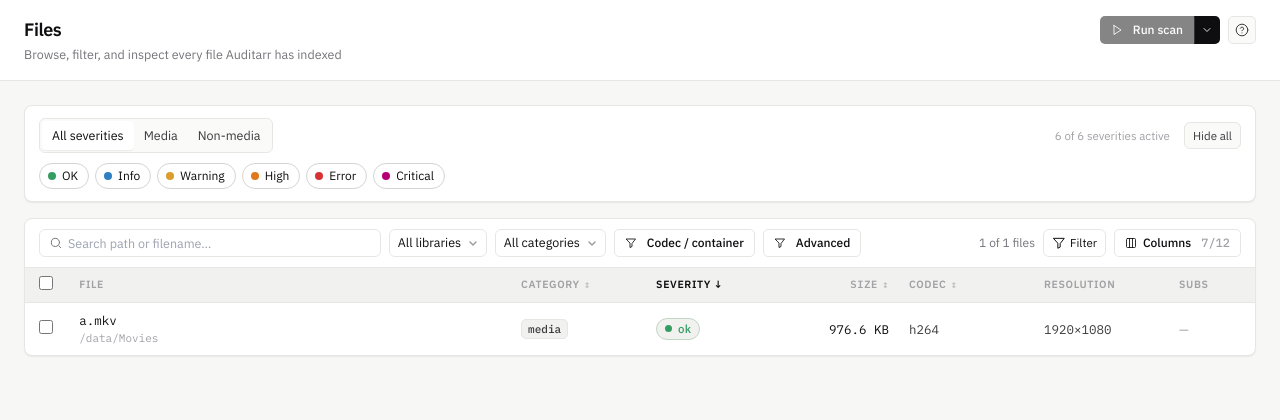
Test case: OptimizeProfilePicker Stage 28 › popover dismisses on Escape
Expected: the text "a.mkv" is shown, [79,311,117,330]
Click the checkbox named "Select a.mkv" at (46, 326), box [39,320,53,334]
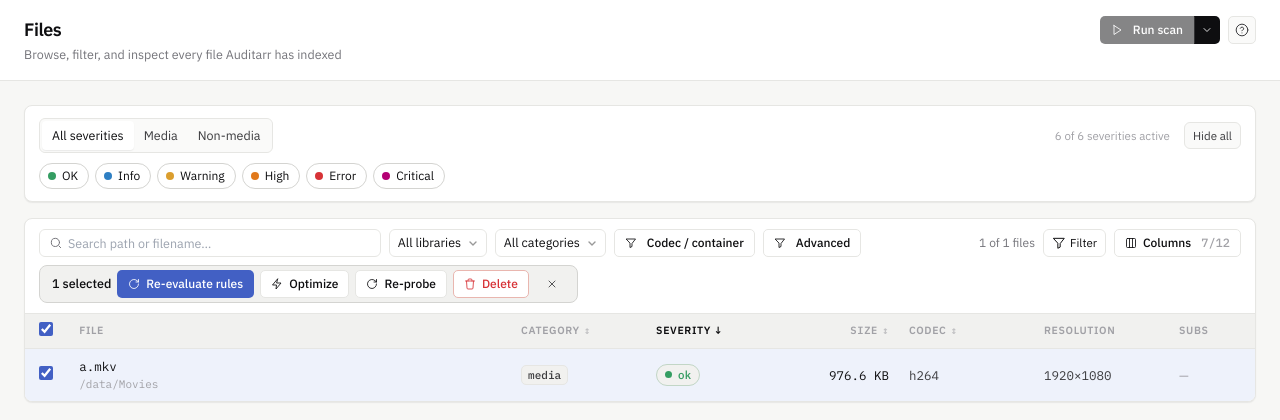
Expected: the button "Optimize" is enabled
Click the button "Optimize" at (305, 284), box [260,270,350,298]
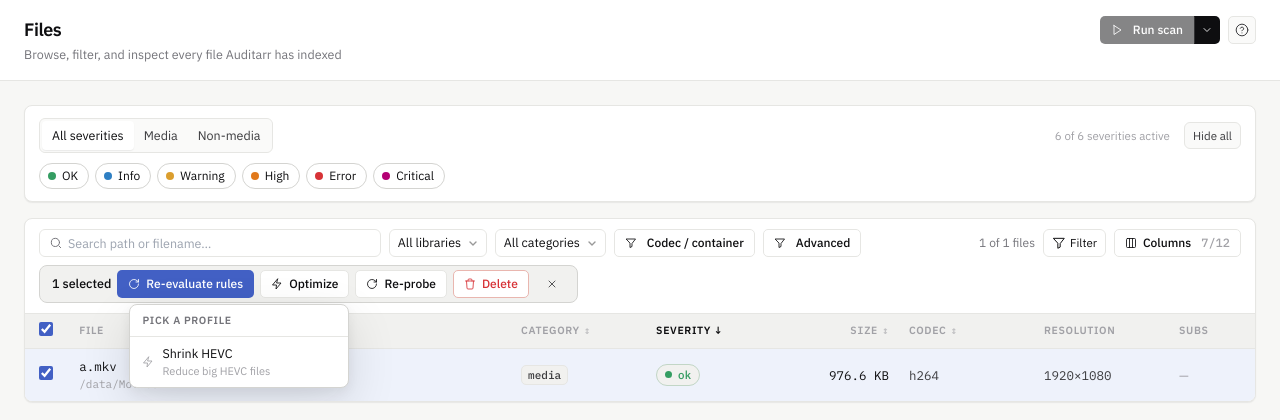
Expected: the menu is shown, [130,304,350,388]
Press Escape
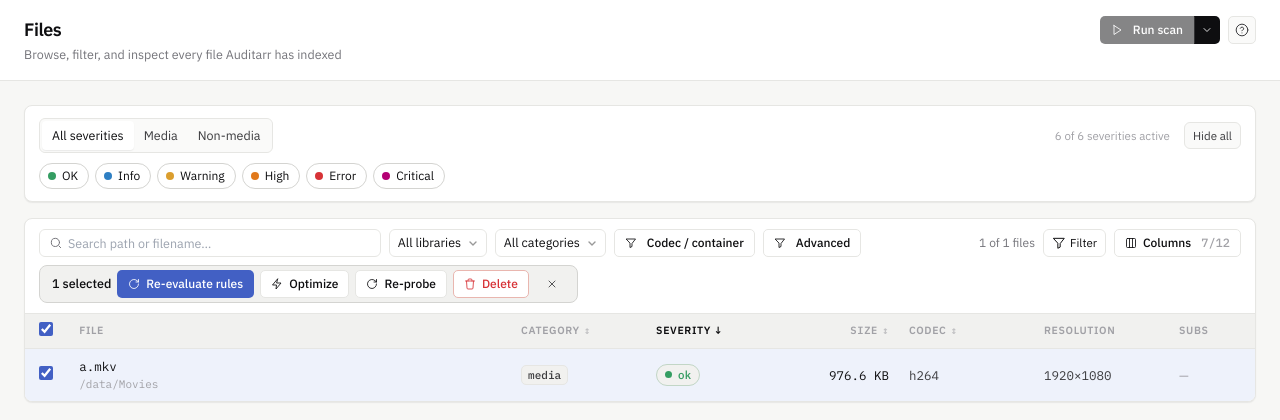
Expected: the menu is gone
